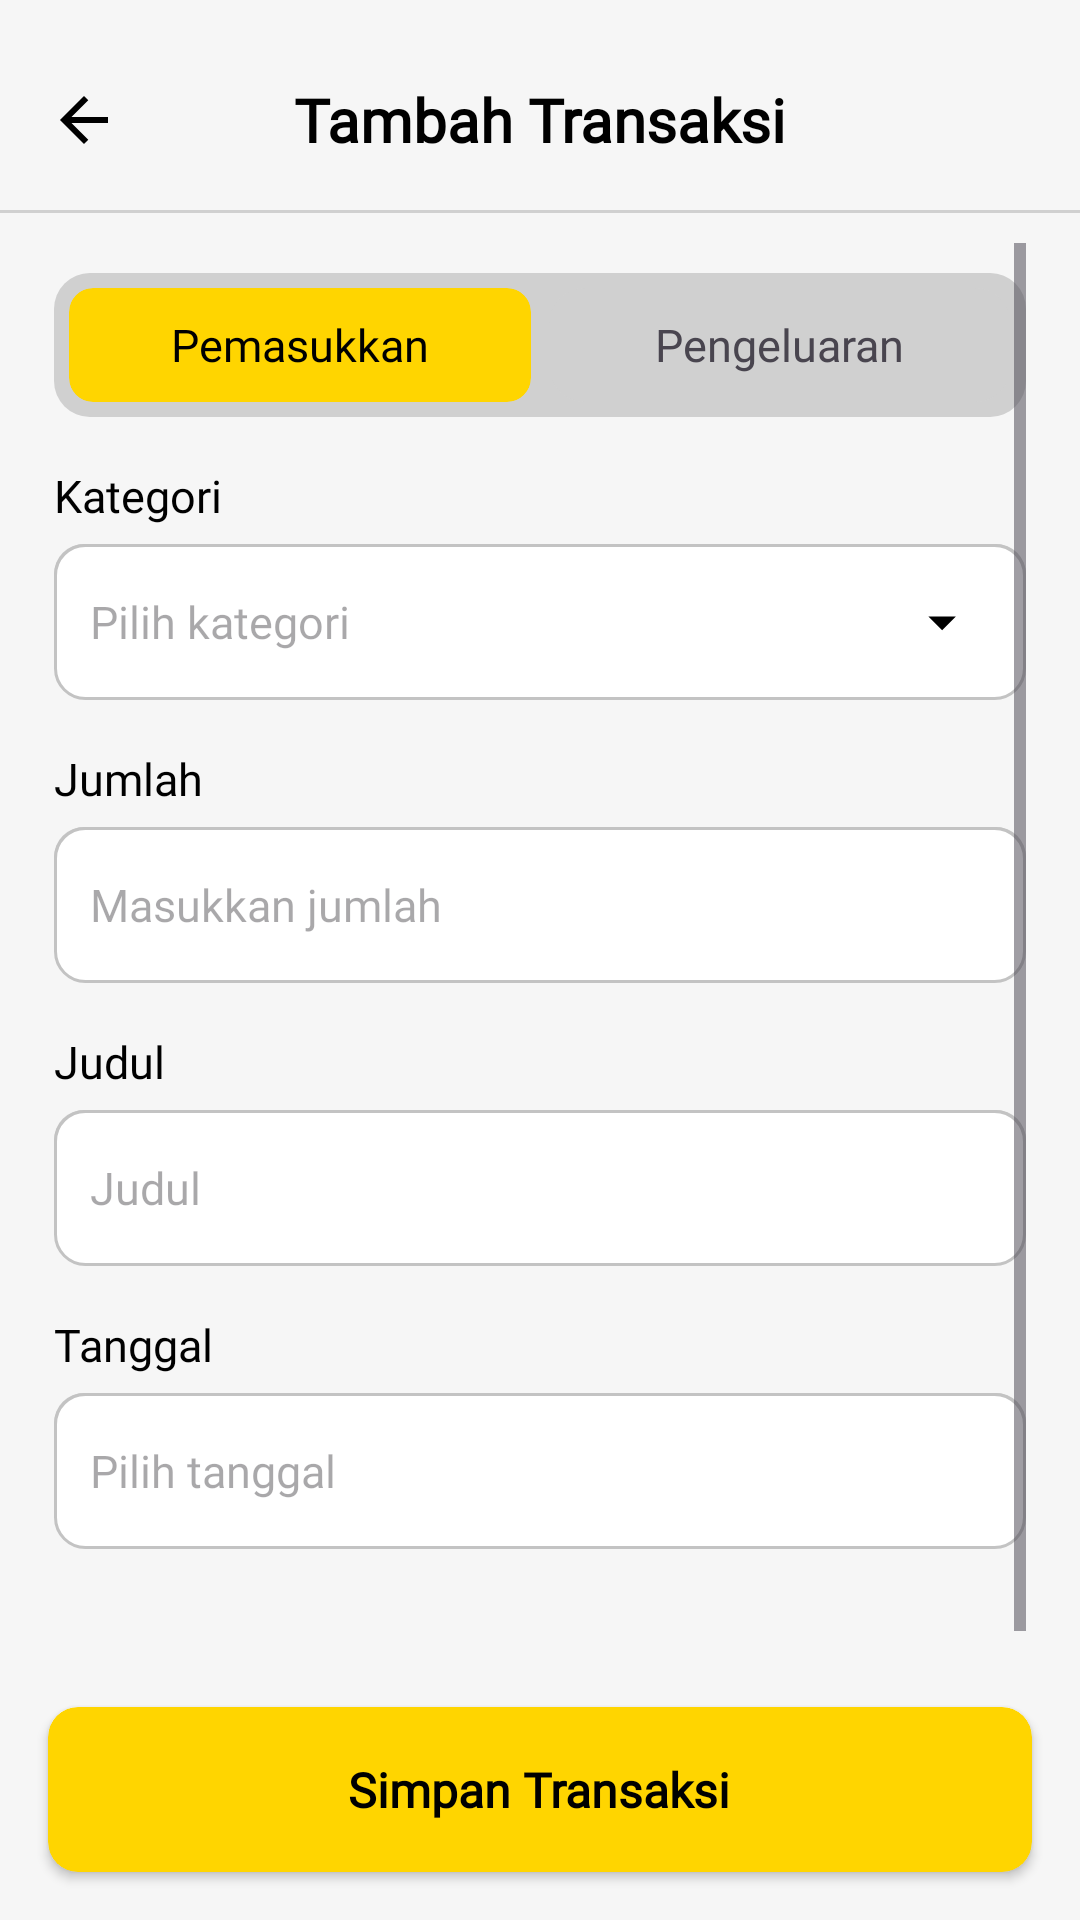

Where icons sit on this 1080px×1920px app screen, as (x1, y1, x2, y2):
arrow: (60, 96, 108, 144)
dropdown: (928, 616, 956, 630)
